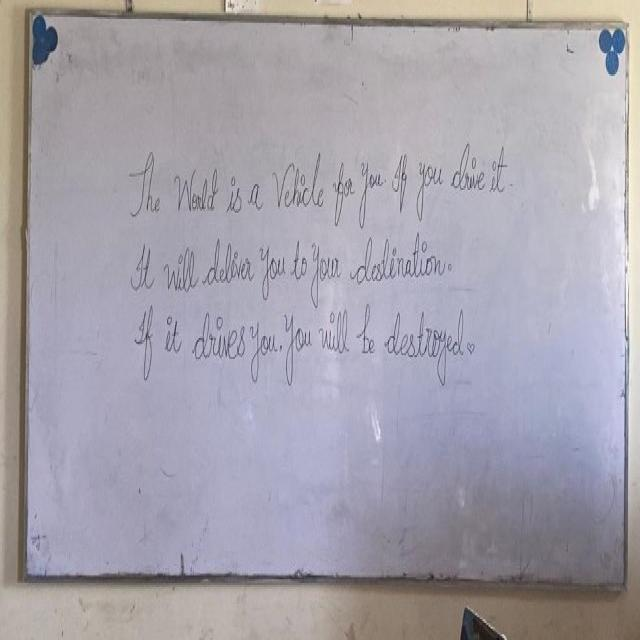White-board: (23, 11, 629, 586)
